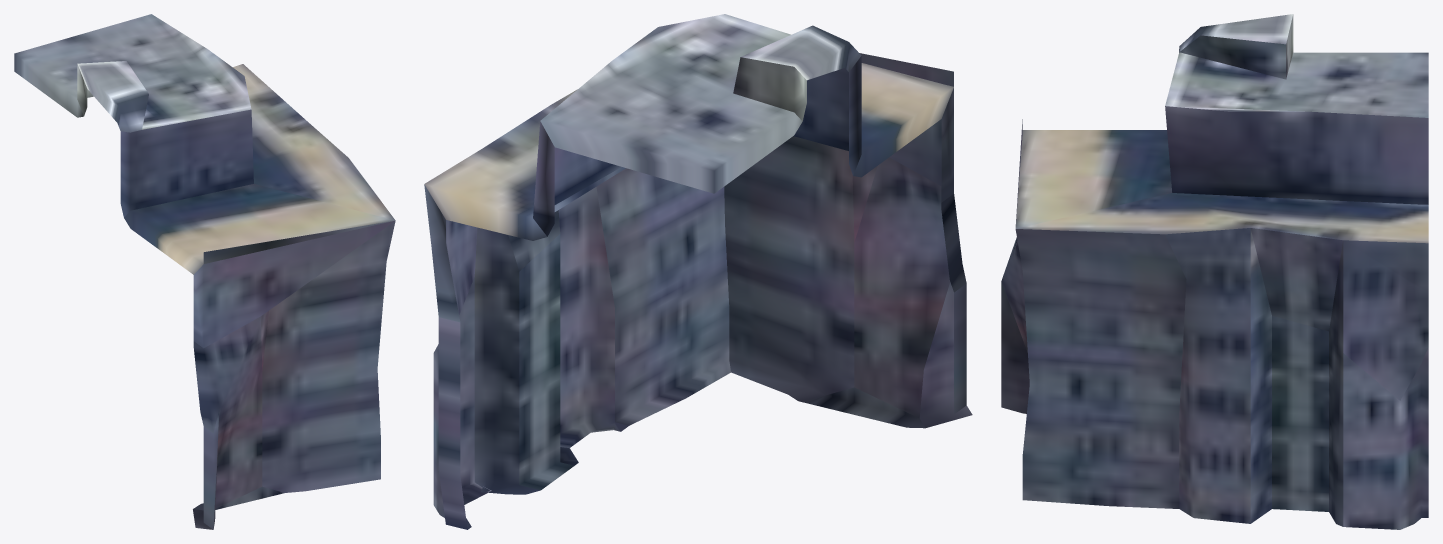
3 renders of one model, left to right at view 1: azimuth 30°, elevation 25°; view 2: azimuth 150°, elevation 25°; view 3: azimuth 270°, elevation 25°, orthographic. The views are drawn at different scales.
Visible parts, largest first — view 1: 3043627270437060675_0; view 2: 3043627270437060675_0; view 3: 3043627270437060675_0.
Part boxes in pixels (x1,y1,x2,y2): 3043627270437060675_0: (14,14,395,529); 3043627270437060675_0: (424,14,972,529); 3043627270437060675_0: (1001,14,1428,529).
Bounding box in the file's own units: 13.19 × 18.8 × 18.51.
Materials: 1 (1 with a texture image).
